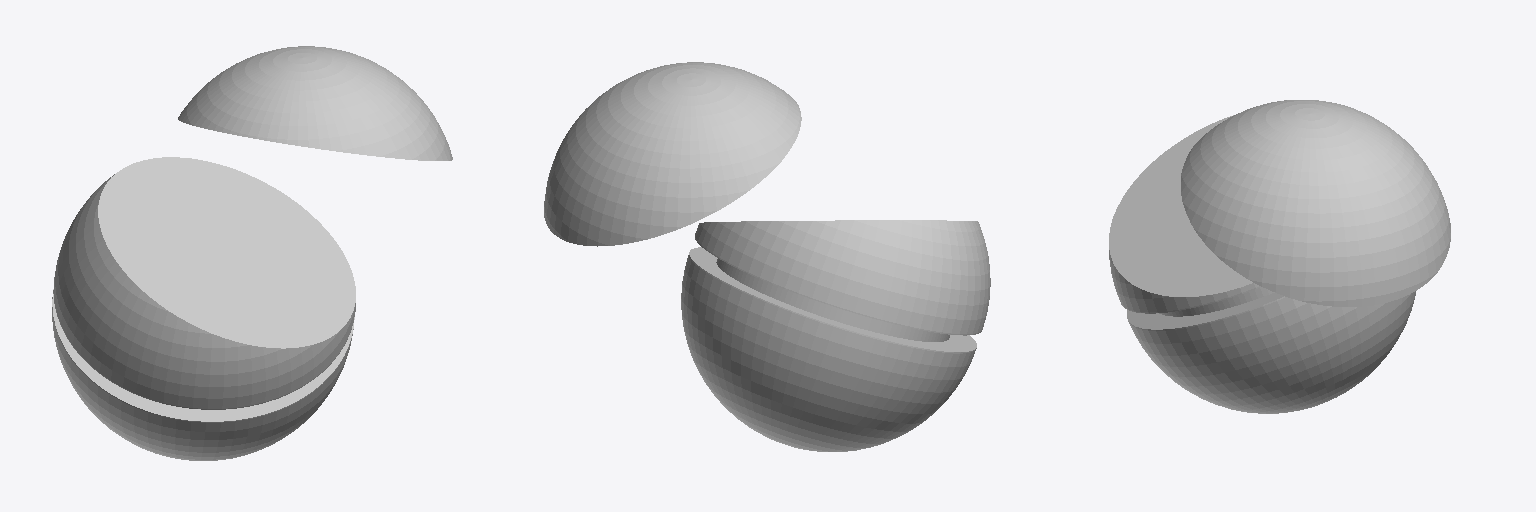
Rendered from Drone166_000008.obj.
The picture shows the model from 3 angles: view 1: azimuth 30°, elevation 25°; view 2: azimuth 150°, elevation 25°; view 3: azimuth 270°, elevation 25°; orthographic projection.
Visible parts, largest first — view 1: Sphere.006, Sphere.000_Sphere.007; view 2: Sphere.006, Sphere.000_Sphere.007; view 3: Sphere.000_Sphere.007, Sphere.006.
Boxes of the visible parts, box(x1,y1,x2,y2) form: Sphere.006: box(52, 157, 355, 460); Sphere.000_Sphere.007: box(178, 46, 452, 160); Sphere.006: box(681, 220, 990, 451); Sphere.000_Sphere.007: box(544, 62, 801, 246); Sphere.000_Sphere.007: box(1181, 100, 1450, 306); Sphere.006: box(1109, 115, 1415, 413).
Size of the model in its own units: 2.93 by 2.51 by 2.26.